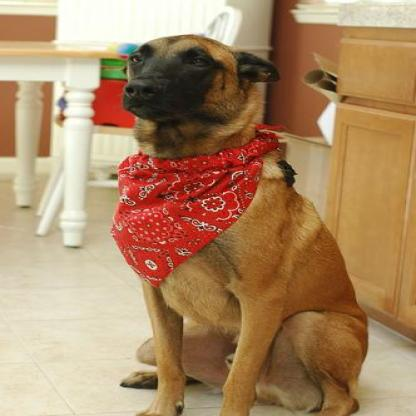malinois: (106, 32, 364, 414)
